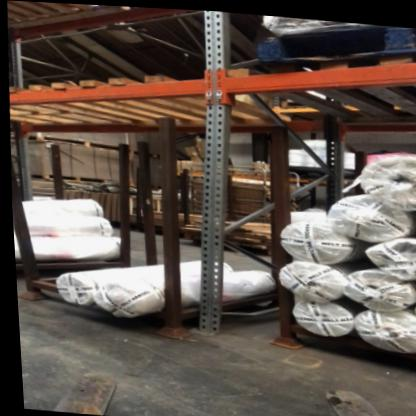vertical_damage: (189, 292, 224, 332)
